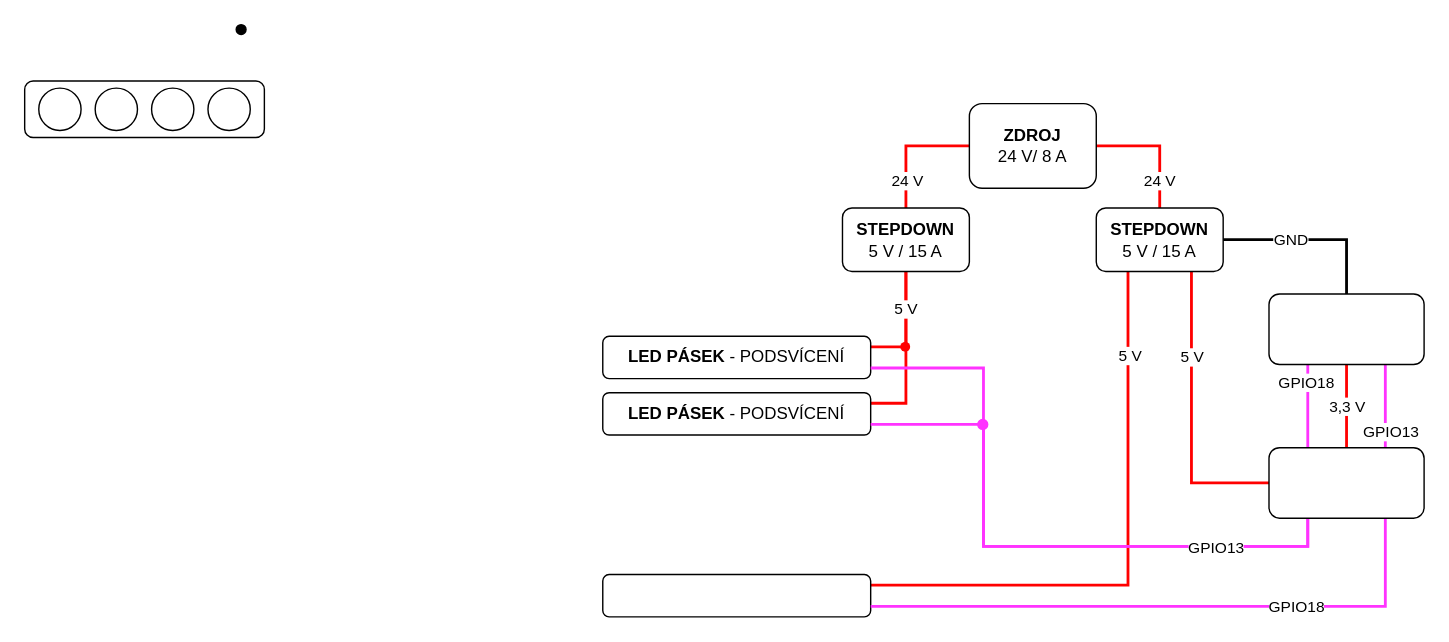
Image size: 1449x642. Some labels were removed from this diagram. The shapes that lost their labels are listed below. From the top down, each one's centre as x and y in pixels, then its label:
the point at 1346,328: RPI (Raspberry Pi 4)
the point at 1346,482: LOGIC SHIFTER 3,3 V - 5 V
the point at 736,595: LED PÁSEK - KLÁVESY
